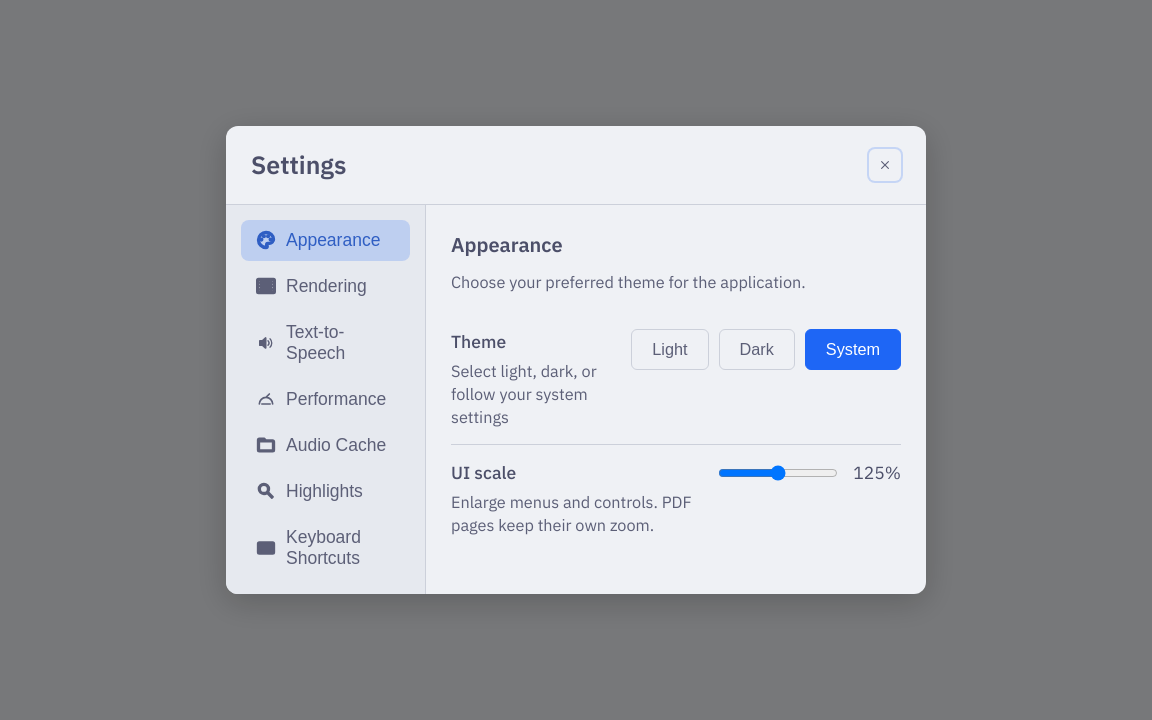
Test: release blockers (109) › B3: Settings -> Text-to-Speech renders the AI-TTS settings, not a dead panel
Step 1. Click the button "Text-to-Speech" → (326, 343), box [241,312,410,374]
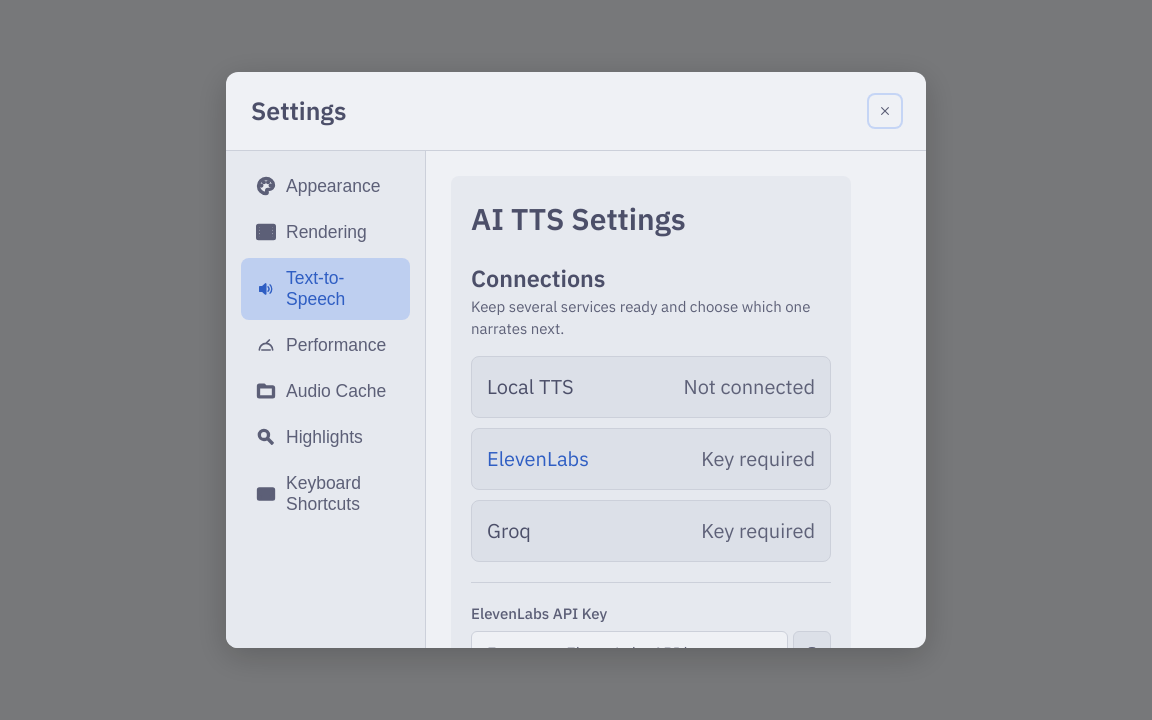
Result: the heading "AI TTS Settings" is shown at [471,196,686,240]
